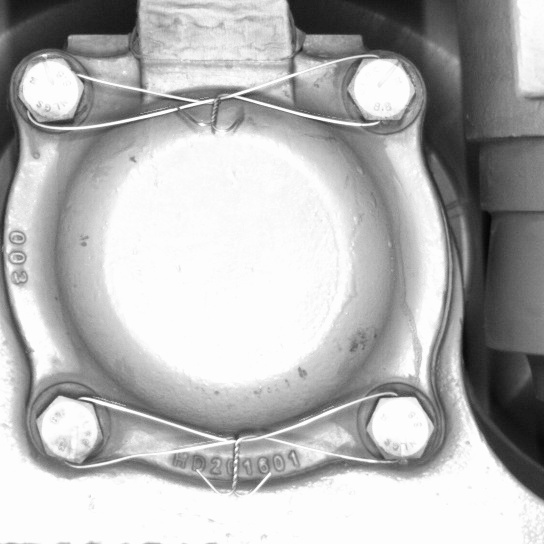IronWire: (8, 44, 429, 135), (25, 382, 443, 472)
Screw: (332, 44, 423, 134), (27, 382, 109, 477), (356, 381, 441, 469), (10, 45, 90, 131)
